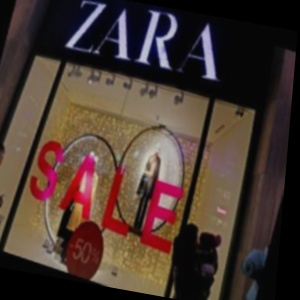zara: (199, 14, 266, 28)
